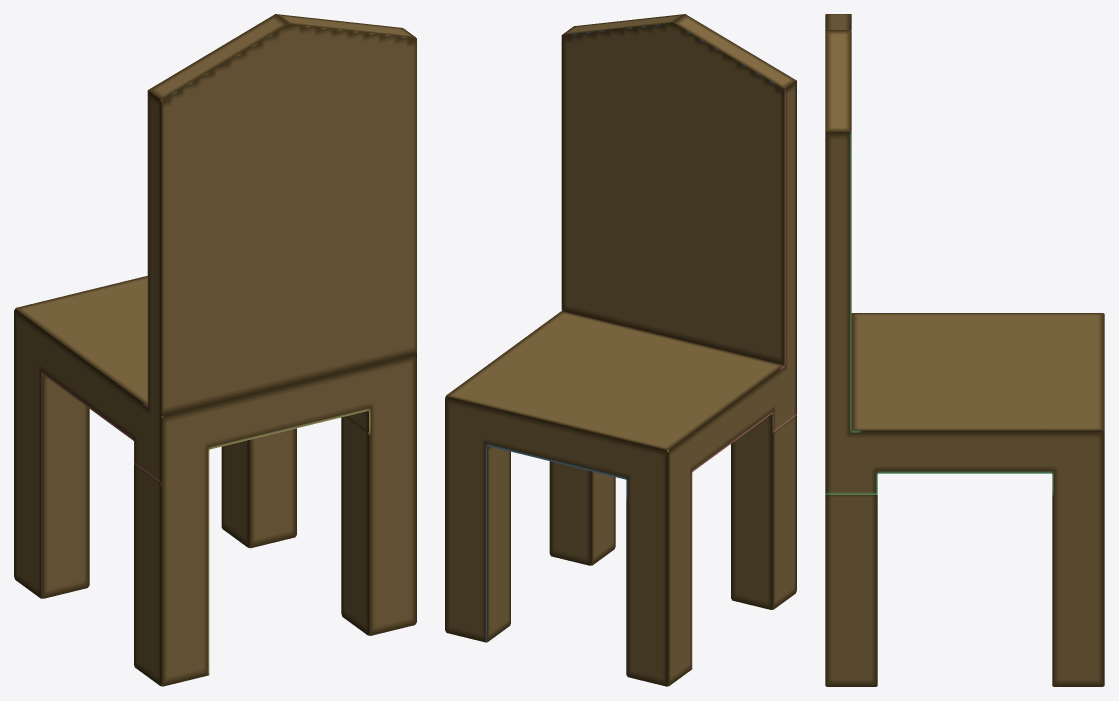
File: kitchen_chair.fbx
3 renders of one model, left to right at view 1: azimuth 30°, elevation 25°; view 2: azimuth 150°, elevation 25°; view 3: azimuth 270°, elevation 25°, orthographic. The views are drawn at different scales.
Parts seen in each view (by area): view 1: cube; view 2: cube; view 3: cube.
Part boxes in pixels (x1,y1,x2,y2): cube: [14, 14, 416, 686]; cube: [445, 14, 796, 686]; cube: [825, 14, 1104, 686].
Size of the model in its own units: 68.75 by 162 by 68.75.
Materials: 1 (1 with a texture image).
